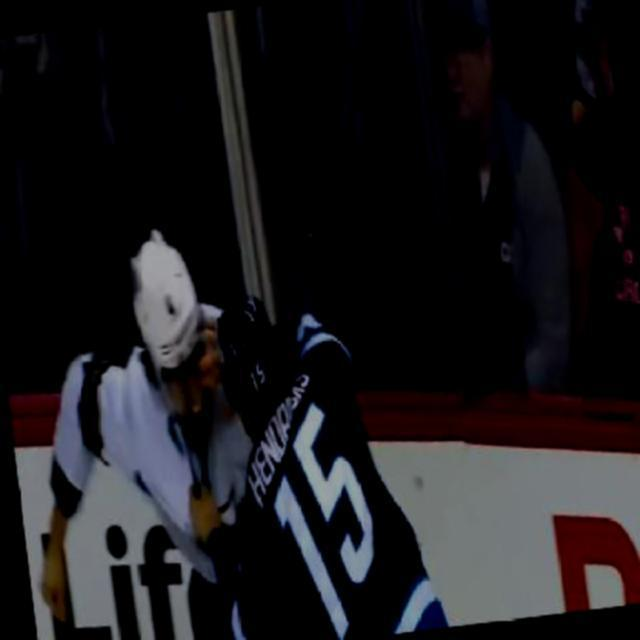fight: (0, 203, 426, 639)
